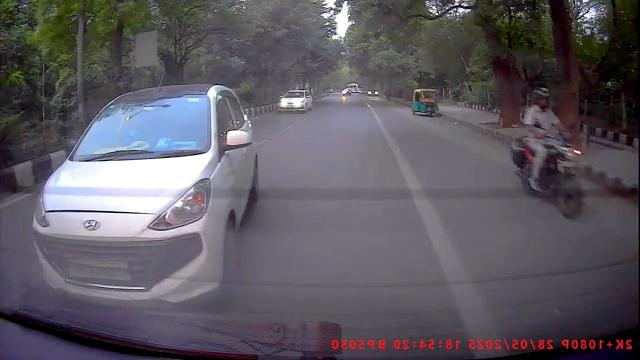motorcycle_with_helmet: (510, 85, 589, 220)
